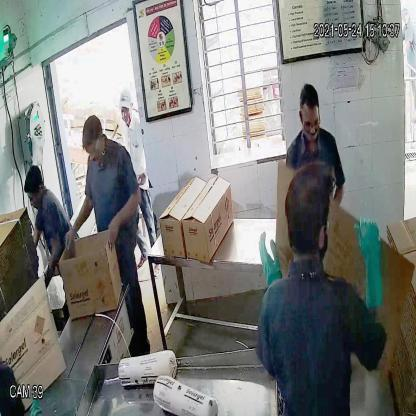goggles: (299, 108, 323, 134)
